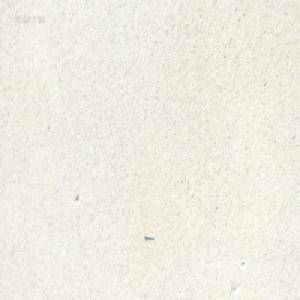Nail: (143, 233, 154, 240)
